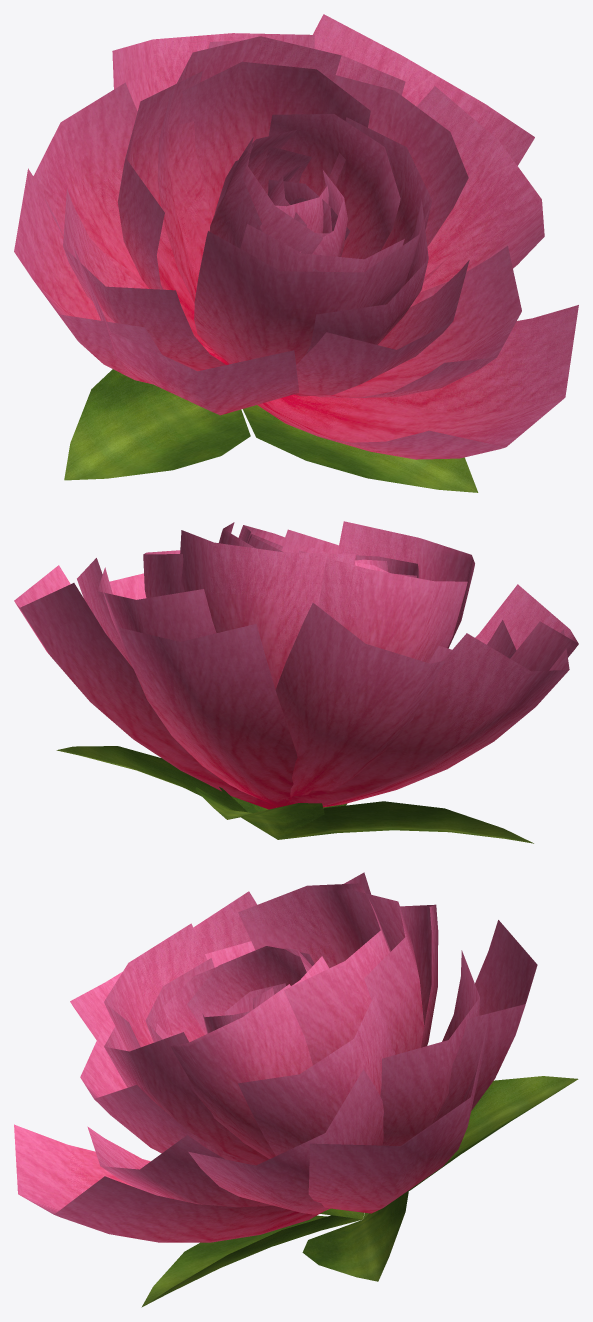
The model's file is singleFlower.fbx.
The picture shows the model from 3 angles, top to bottom: view 1: azimuth 30°, elevation 25°; view 2: azimuth 150°, elevation 25°; view 3: azimuth 270°, elevation 25°; orthographic projection. The views are drawn at different scales.
Parts seen in each view (by area): view 1: flowers_1, Camelia_japonica__A001_4; view 2: flowers_1, Camelia_japonica__A001_4; view 3: flowers_1, Camelia_japonica__A001_4.
Part boxes in pixels (x1,y1,x2,y2): flowers_1: [14, 14, 578, 459]; Camelia_japonica__A001_4: [64, 369, 478, 492]; flowers_1: [14, 521, 578, 809]; Camelia_japonica__A001_4: [56, 746, 533, 843]; flowers_1: [14, 872, 537, 1242]; Camelia_japonica__A001_4: [141, 1076, 578, 1307].
Bounding box in the file's own units: 4.76 × 3.26 × 4.9.
Materials: 3 (3 with a texture image).
